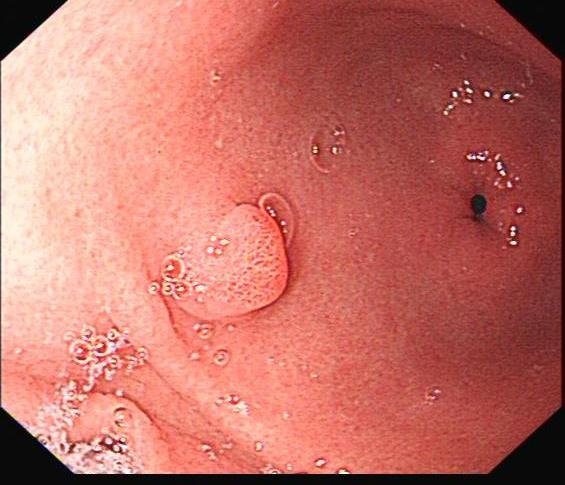Polyp: (171, 191, 298, 321)
